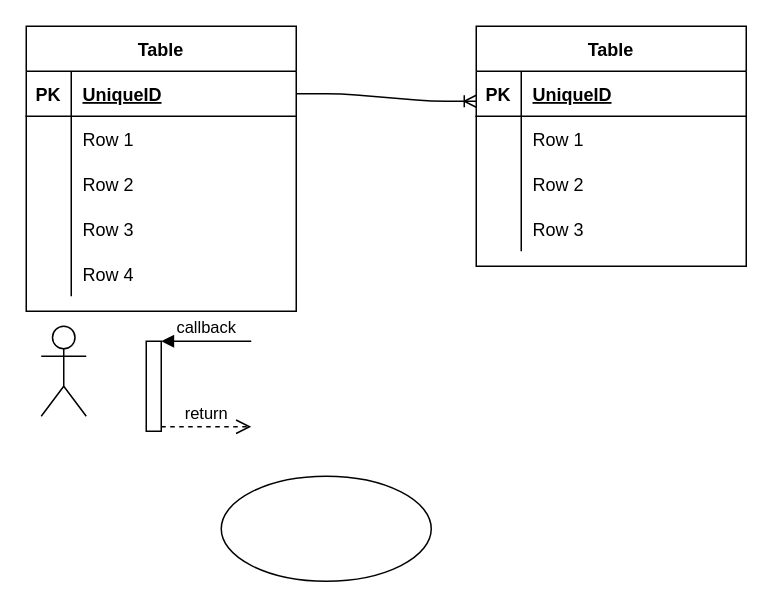
Image size: 773x608. Some labels were removed from this diagram. Here are the shapes that lost their labels. From the top down, the centre of each, then its label:
At point (63, 370): "Actor".
At point (325, 528): "Use Case".
